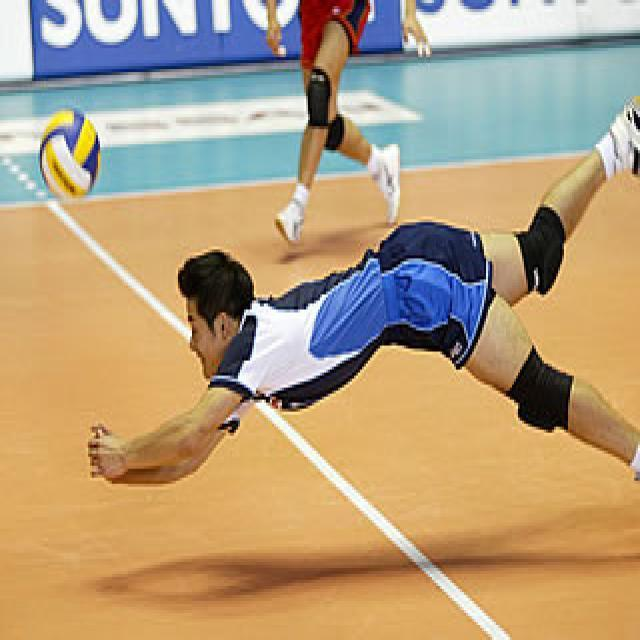volleyball: (40, 110, 100, 200)
